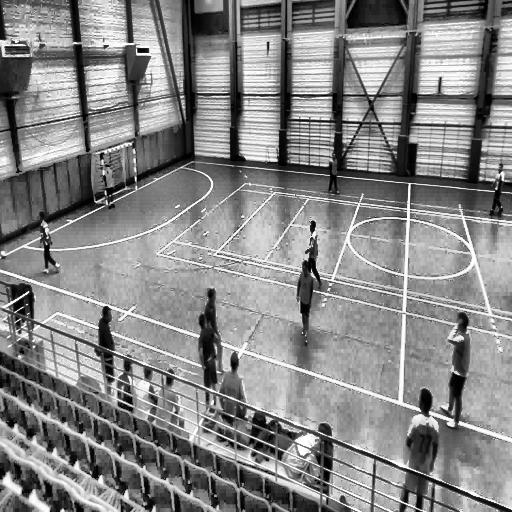ball: (0, 248, 8, 261)
player: (398, 388, 438, 509), (443, 312, 471, 426), (198, 290, 223, 407), (198, 313, 220, 409), (96, 305, 116, 400), (37, 206, 62, 276), (297, 258, 315, 345), (303, 219, 324, 292), (488, 161, 504, 218), (102, 162, 116, 212), (328, 152, 339, 194)
